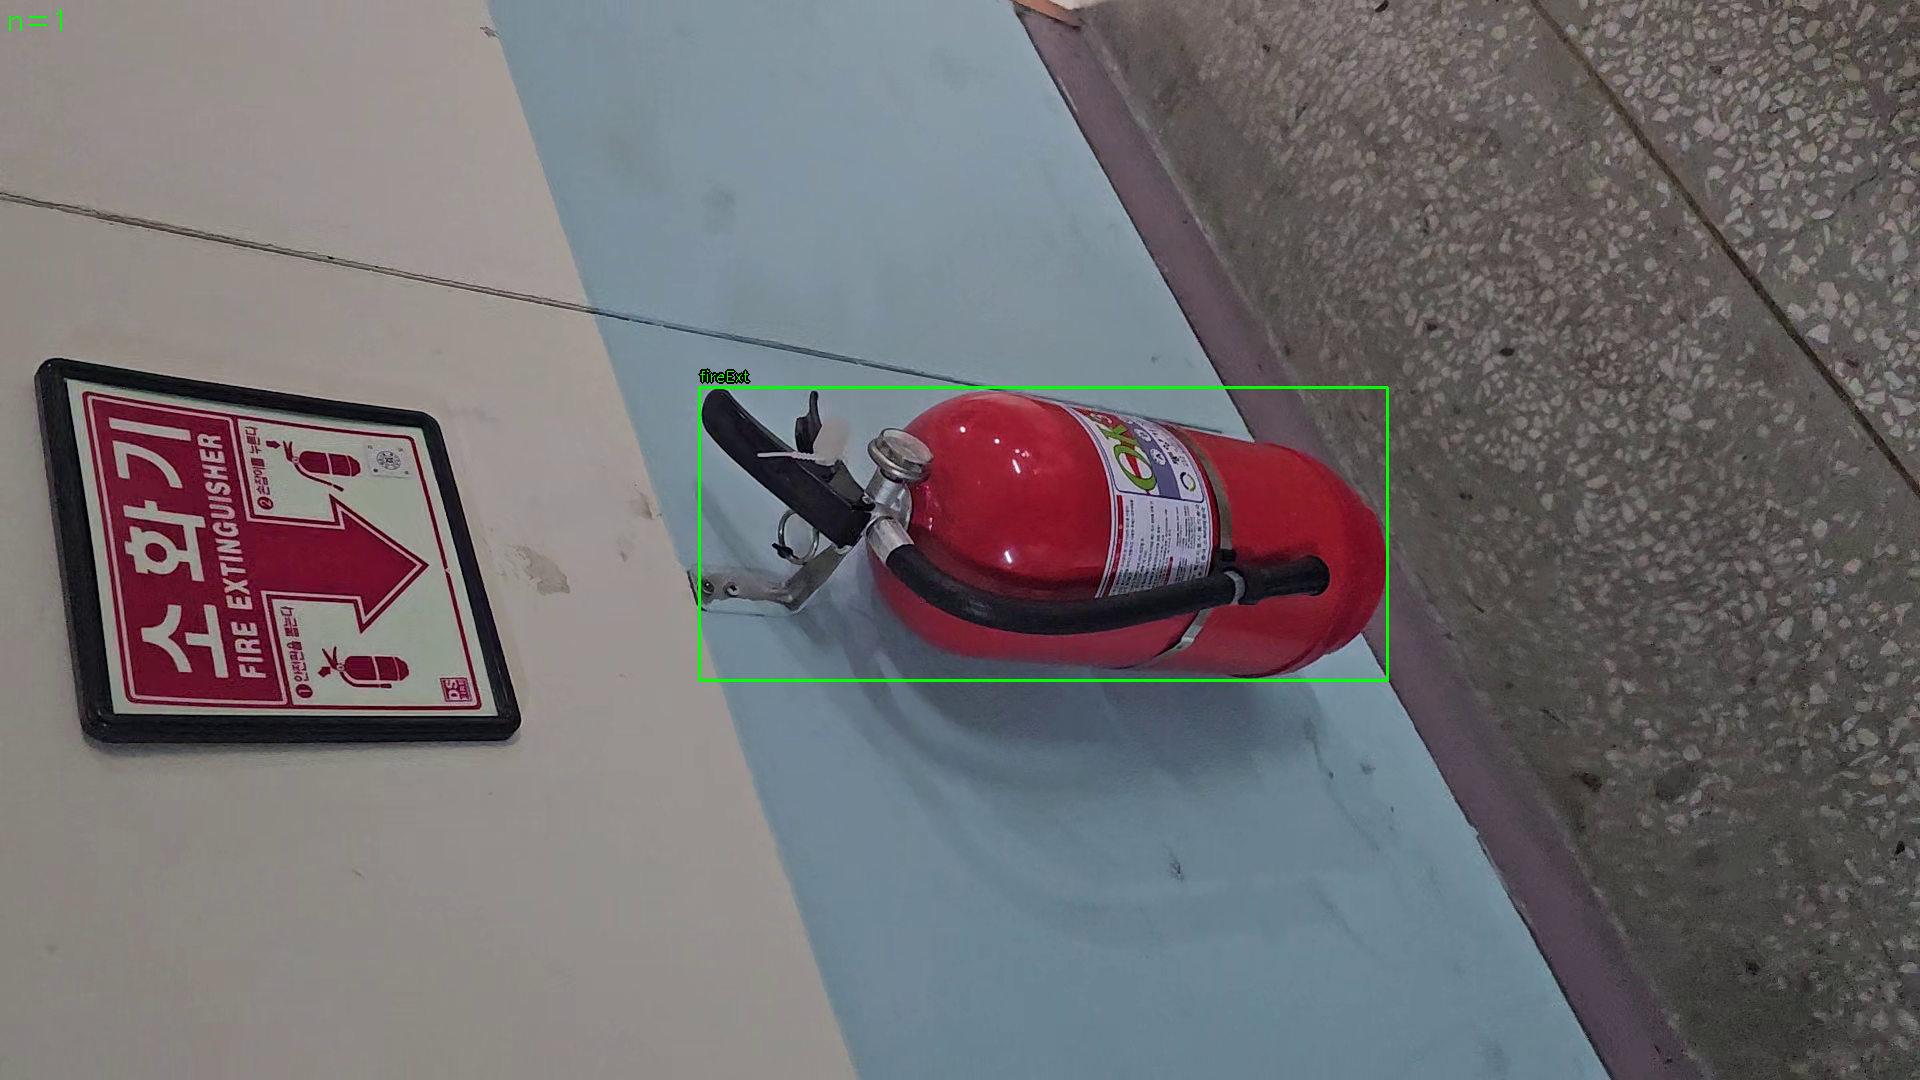lane: (699, 386, 1389, 680)
